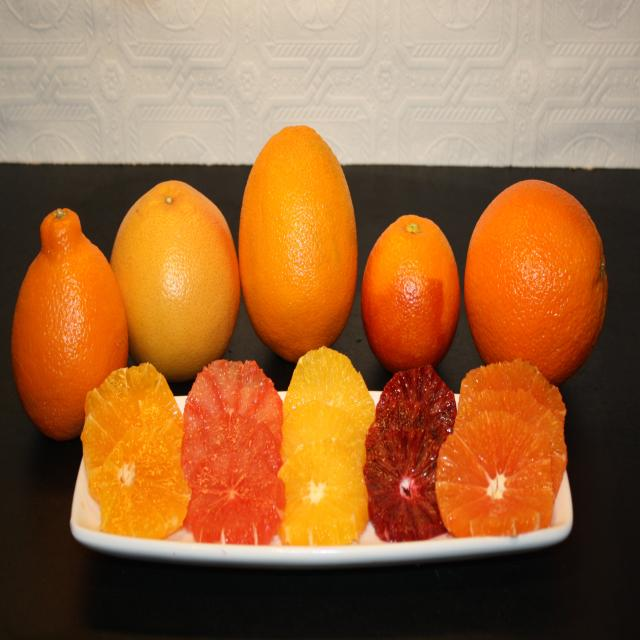Orange: (458, 153, 612, 404), (231, 107, 376, 373), (15, 193, 144, 465), (115, 166, 261, 383), (355, 195, 465, 387)
